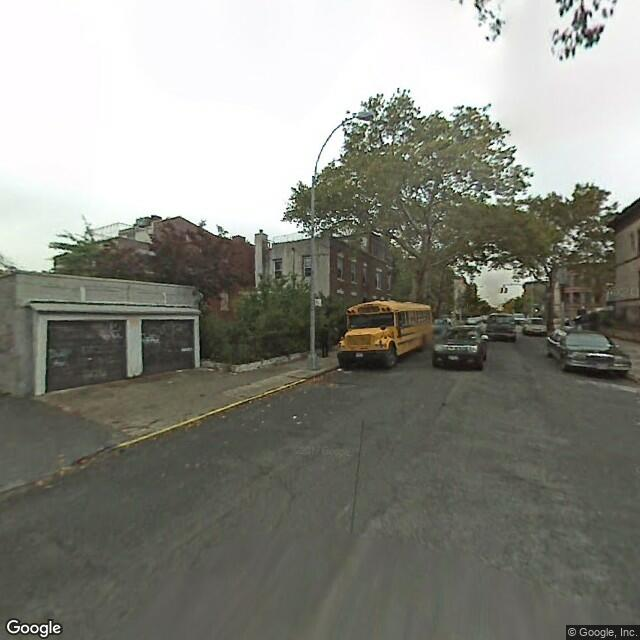litter: (175, 366, 182, 371), (291, 414, 298, 418), (336, 367, 344, 369)
